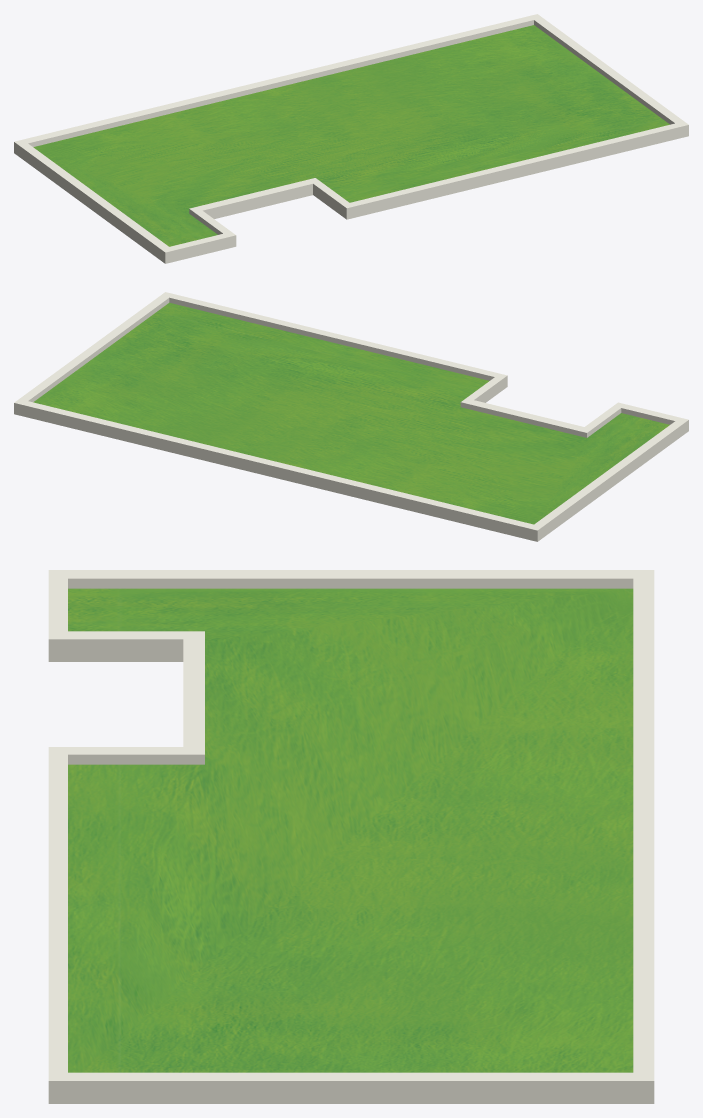
Rendered from fbx_school_outdoor_garden1.fbx.
The picture shows the model from 3 angles, top to bottom: view 1: azimuth 30°, elevation 25°; view 2: azimuth 150°, elevation 25°; view 3: azimuth 270°, elevation 25°; orthographic projection. The views are drawn at different scales.
Parts seen in each view (by area): view 1: fbx_school_outdoor_garden1; view 2: fbx_school_outdoor_garden1; view 3: fbx_school_outdoor_garden1.
Part boxes in pixels (x1,y1,x2,y2): fbx_school_outdoor_garden1: [14, 14, 688, 263]; fbx_school_outdoor_garden1: [14, 292, 688, 541]; fbx_school_outdoor_garden1: [48, 570, 654, 1103].
Bounding box in the file's own units: 7.43 × 0.1547 × 3.72.
